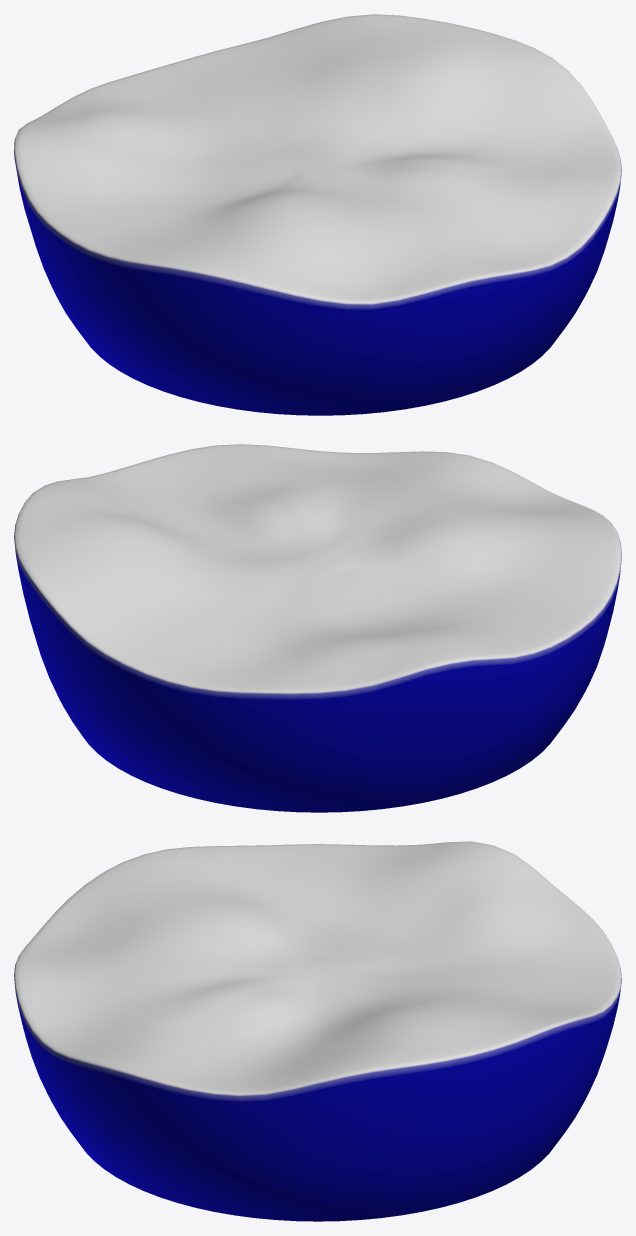
File: SnowterrainCircle.fbx
3 views of the same model, one above another, from view 1: azimuth 30°, elevation 25°; view 2: azimuth 150°, elevation 25°; view 3: azimuth 270°, elevation 25° (orthographic).
Visible parts, largest first — view 1: SnowterrainCircle; view 2: SnowterrainCircle; view 3: SnowterrainCircle.
Boxes of the visible parts, x1,y1,x2,y2 form: SnowterrainCircle: [14, 14, 621, 415]; SnowterrainCircle: [14, 444, 621, 812]; SnowterrainCircle: [14, 841, 621, 1221].
Size of the model in its own units: 2.24 by 0.7235 by 2.23.
